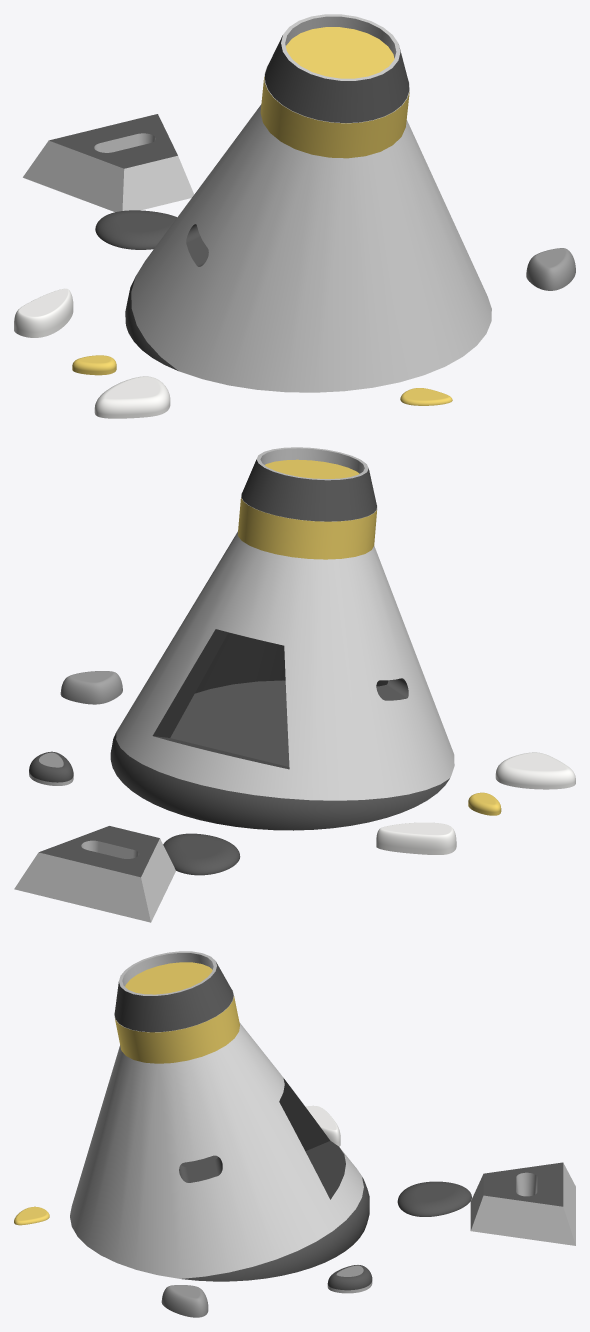
File: akadaly_urkapszula.glb
The picture shows the model from 3 angles, top to bottom: view 1: azimuth 30°, elevation 25°; view 2: azimuth 150°, elevation 25°; view 3: azimuth 270°, elevation 25°; orthographic projection. The views are drawn at different scales.
Visible parts, largest first — view 1: akadaly_urkapszula; view 2: akadaly_urkapszula; view 3: akadaly_urkapszula.
Boxes of the visible parts, <box> form: akadaly_urkapszula: <box>14,14,575,418</box>; akadaly_urkapszula: <box>14,447,575,922</box>; akadaly_urkapszula: <box>14,951,575,1317</box>.
Bounding box in the file's own units: 14 × 7.88 × 16.02.
